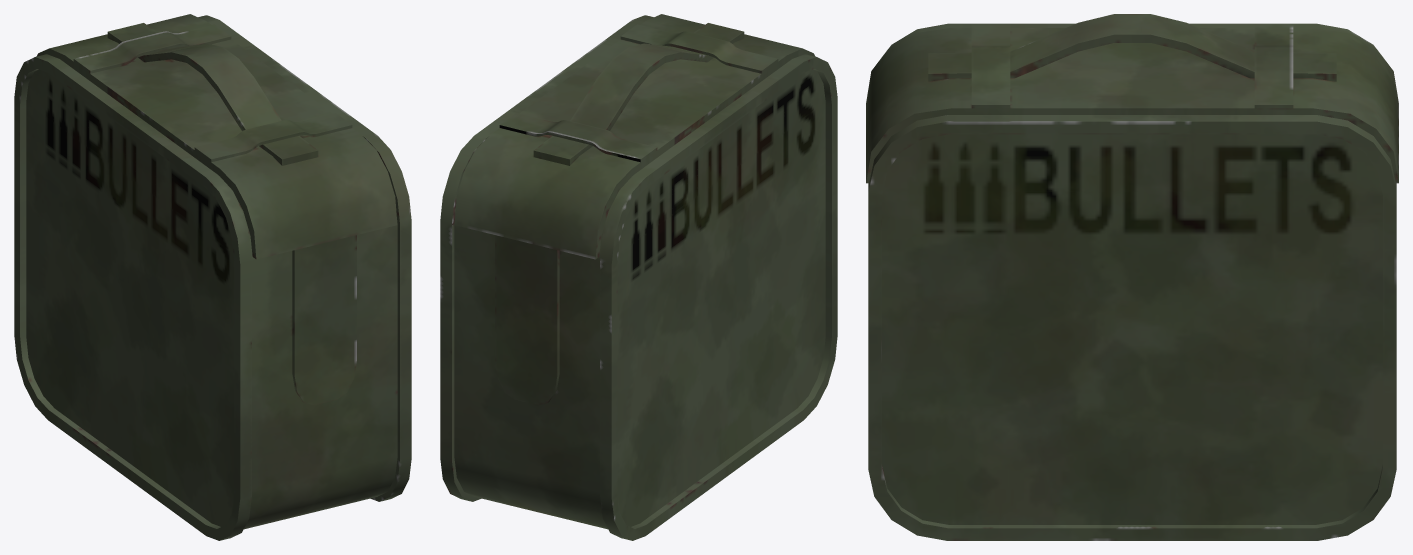
The model's file is BulletCase.fbx.
3 renders of one model, left to right at view 1: azimuth 30°, elevation 25°; view 2: azimuth 150°, elevation 25°; view 3: azimuth 270°, elevation 25°, orthographic. The views are drawn at different scales.
Parts seen in each view (by area): view 1: Cube.002; view 2: Cube.002; view 3: Cube.002.
Boxes of the visible parts, box(x1,y1,x2,y2) form: Cube.002: box(14, 14, 411, 540); Cube.002: box(440, 14, 837, 540); Cube.002: box(866, 14, 1398, 540).
Bounding box in the file's own units: 22.36 × 49.78 × 51.39.
Materials: 1 (1 with a texture image).
